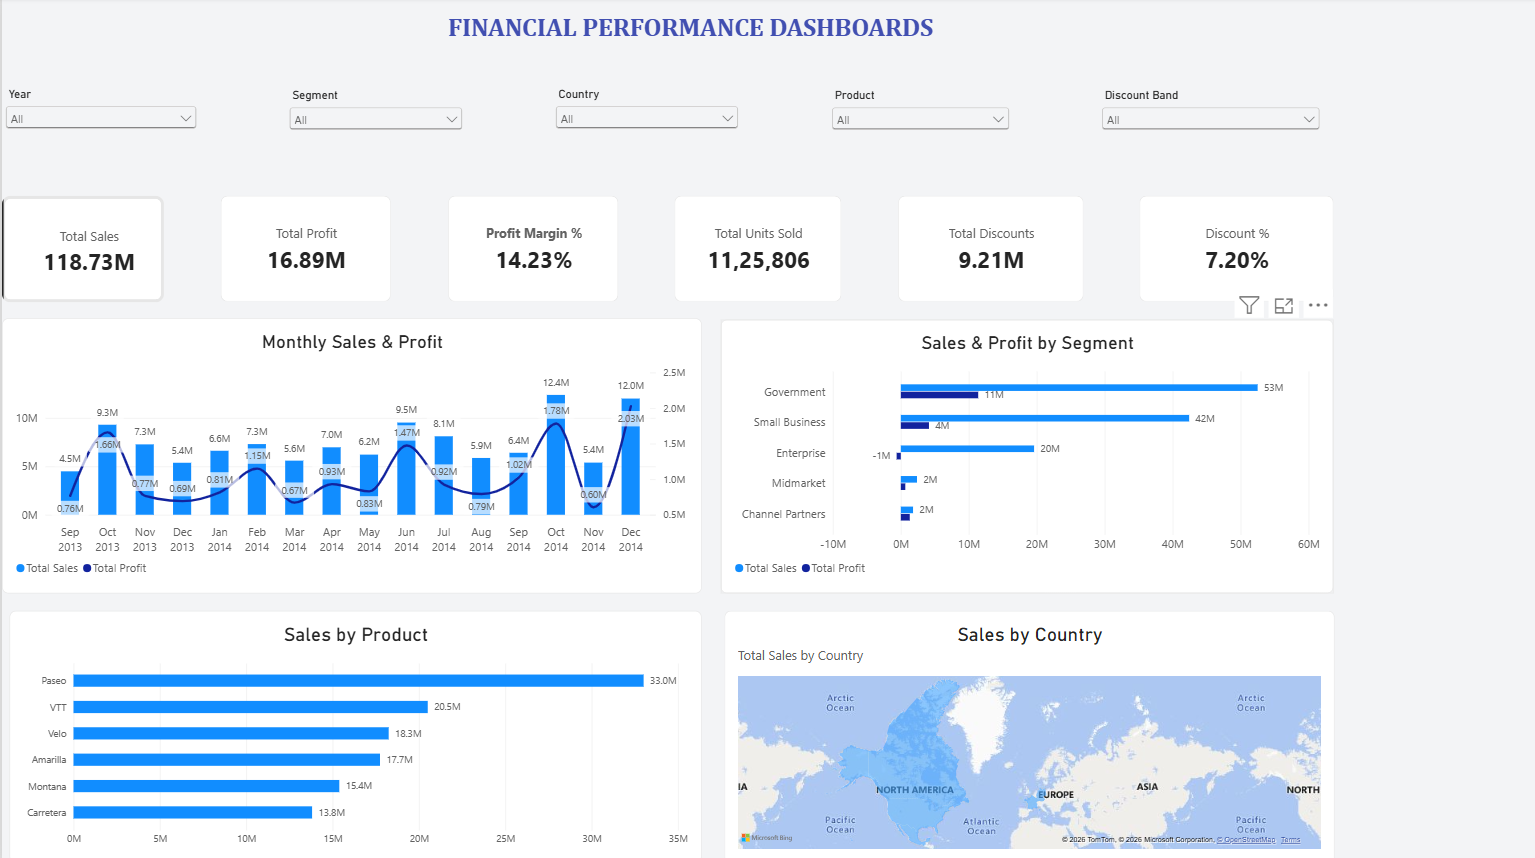

Layout of this report page (visuals, bound fields, positions):
{"tool":"powerbi","page":{"name":"Executive Overview","canvas":[1920,1080],"ordinal":0},"visuals":[{"type":"slicer","fields":{"Values":["DateTable.Year"]},"box":[0,112.9,247.3,76.2],"z":0},{"type":"slicer","fields":{"Values":["Financials.Segment"]},"box":[354,113.5,225.3,76.2],"z":1000},{"type":"slicer","fields":{"Values":["Financials.Country"]},"box":[686.5,112.9,237.1,75.7],"z":2000},{"type":"slicer","fields":{"Values":["Financials.Product"]},"box":[1029.8,113.5,230.3,76.2],"z":3000},{"type":"slicer","fields":{"Values":["Financials.Discount Band"]},"box":[1366.8,113.5,281.2,76.2],"z":4000},{"type":"cardVisual","fields":{"Data":["Measures (2).Total sales"]},"box":[0,248.6,202.9,133],"z":5000},{"type":"cardVisual","fields":{"Data":["Measures (2).Total Profit"]},"box":[273,248.6,212.9,132.9],"z":6000},{"type":"cardVisual","fields":{"Data":["Measures (2).Profit margin"]},"box":[556,248.6,212.9,132.9],"z":7000},{"type":"cardVisual","fields":{"Data":["Measures (2).Total Units Sold"]},"box":[839,248.6,208.6,132.9],"z":8000},{"type":"cardVisual","fields":{"Data":["Measures (2).Total Discounts"]},"box":[1117.8,248.6,231.4,132.9],"z":9000},{"type":"cardVisual","fields":{"Data":["Measures (2).Discount %"]},"box":[1419.3,248.6,242.2,132.1],"z":10000},{"type":"lineClusteredColumnComboChart","title":"Monthly Sales & Profit","fields":{"Category":["DateTable.Month Year"],"Y":["Measures (2).Total sales"],"Y2":["Measures (2).Total Profit"]},"box":[0,400,872.9,342.9],"z":11000},{"type":"clusteredBarChart","title":"Sales & Profit by Segment","fields":{"Category":["Financials.Segment"],"Y":["Measures (2).Total sales","Measures (2).Total Profit"]},"box":[897.1,401.4,764.3,341.4],"z":12000},{"type":"clusteredBarChart","title":"Sales by Product","fields":{"Category":["Financials.Product"],"Y":["Measures (2).Total sales"]},"box":[10,765.7,862.9,314.3],"z":13000},{"type":"filledMap","title":"Sales by Country","fields":{"Category":["Financials.Country"]},"box":[901,765.4,760.7,314.9],"z":14000},{"type":"textbox","box":[509.8,0,697.8,72.8],"z":15000}]}

Visuals, with their boxes in screenshot pixels (x1, y1, x2, y2), scaled from the page's 1920x1080 canvas onto the 1535x858 screenshot:
slicer - DateTable.Year: bbox(0, 90, 198, 150)
slicer - Financials.Segment: bbox(283, 90, 463, 151)
slicer - Financials.Country: bbox(549, 90, 738, 150)
slicer - Financials.Product: bbox(823, 90, 1007, 151)
slicer - Financials.Discount Band: bbox(1093, 90, 1318, 151)
cardVisual - Measures (2).Total sales: bbox(0, 197, 162, 303)
cardVisual - Measures (2).Total Profit: bbox(218, 197, 388, 303)
cardVisual - Measures (2).Profit margin: bbox(445, 197, 615, 303)
cardVisual - Measures (2).Total Units Sold: bbox(671, 197, 838, 303)
cardVisual - Measures (2).Total Discounts: bbox(894, 197, 1079, 303)
cardVisual - Measures (2).Discount %: bbox(1135, 197, 1328, 302)
"Monthly Sales & Profit" lineClusteredColumnComboChart: bbox(0, 318, 698, 590)
"Sales & Profit by Segment" clusteredBarChart: bbox(717, 319, 1328, 590)
"Sales by Product" clusteredBarChart: bbox(8, 608, 698, 857)
"Sales by Country" filledMap: bbox(720, 608, 1328, 857)
textbox: bbox(408, 0, 965, 58)
